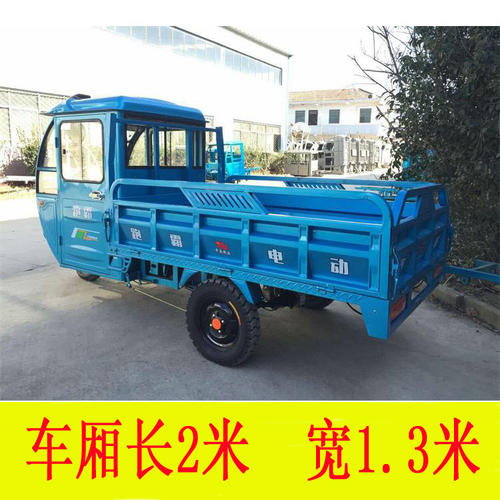truck: (32, 93, 447, 365)
